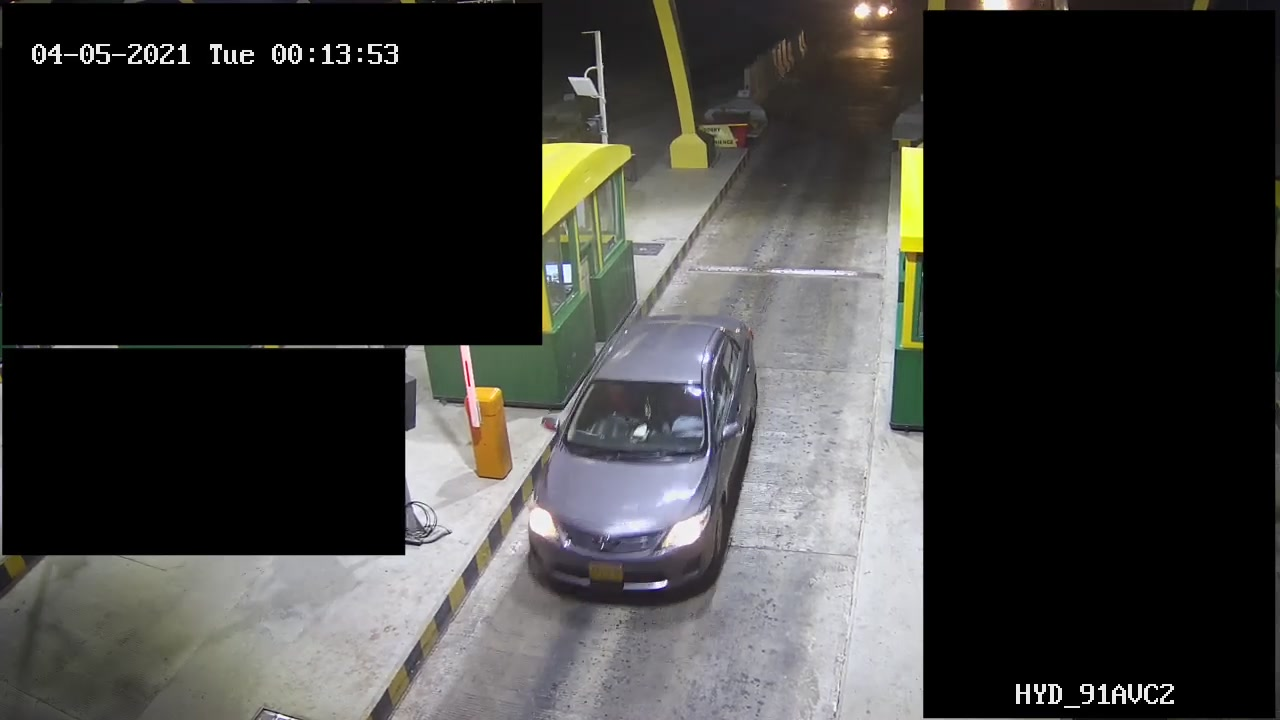F1: (512, 308, 774, 607)
